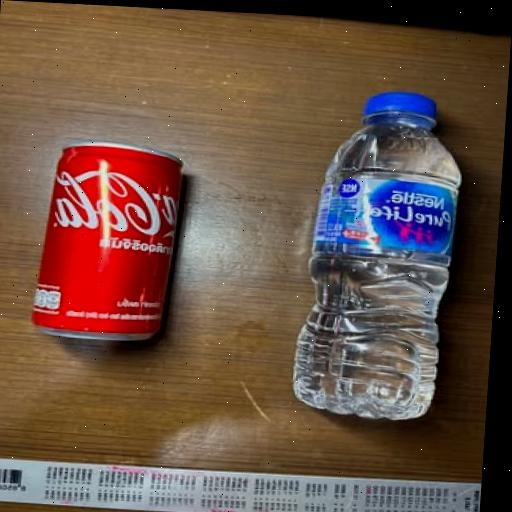ba: (270, 64, 489, 446)
bottle: (8, 110, 208, 352)
